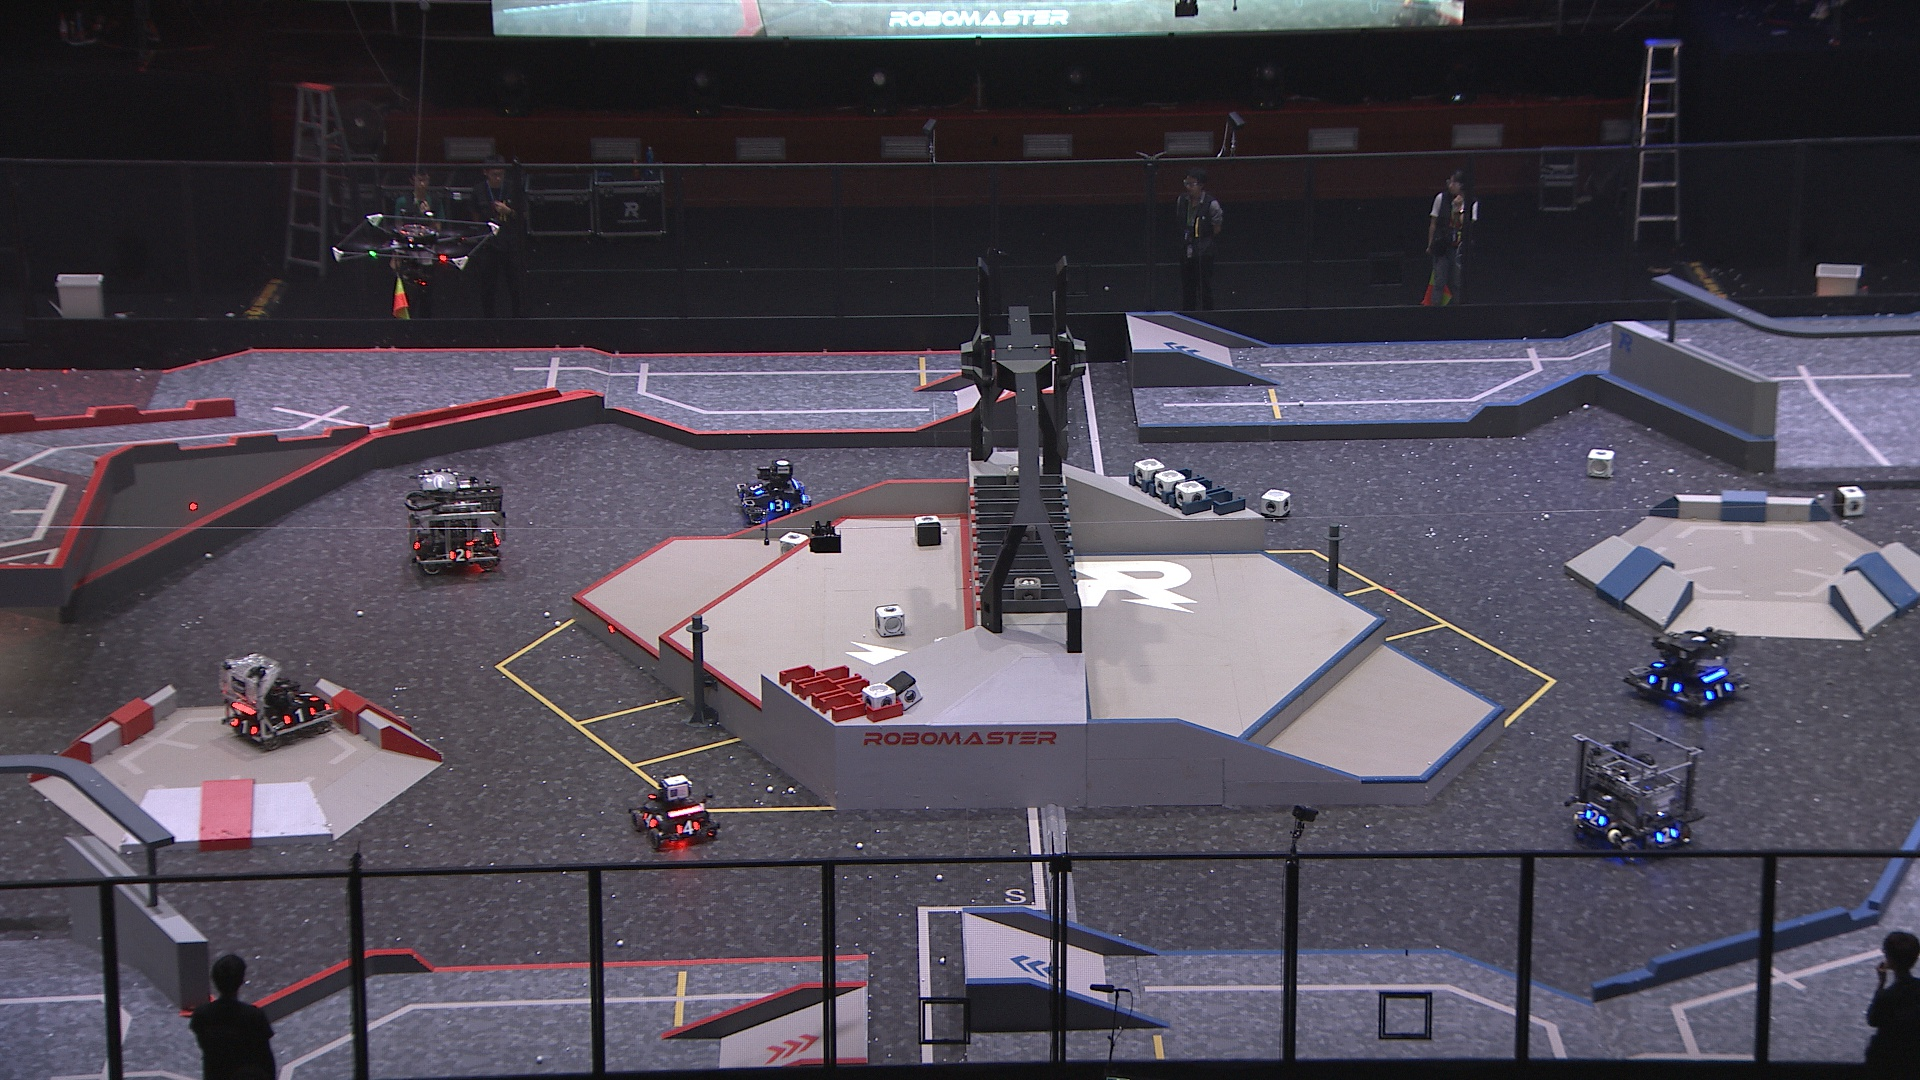armor: (1643, 671, 1687, 695), (284, 705, 319, 731), (669, 818, 705, 840), (1702, 680, 1737, 702), (229, 716, 261, 738), (1654, 822, 1681, 847), (1582, 804, 1607, 828), (448, 546, 476, 566), (638, 807, 661, 829), (295, 688, 323, 705), (476, 520, 498, 541), (765, 495, 790, 513), (746, 479, 767, 496)
car: (1567, 719, 1698, 866), (1619, 622, 1755, 719), (400, 462, 508, 579), (214, 651, 338, 752), (626, 773, 719, 855), (733, 456, 818, 529)
